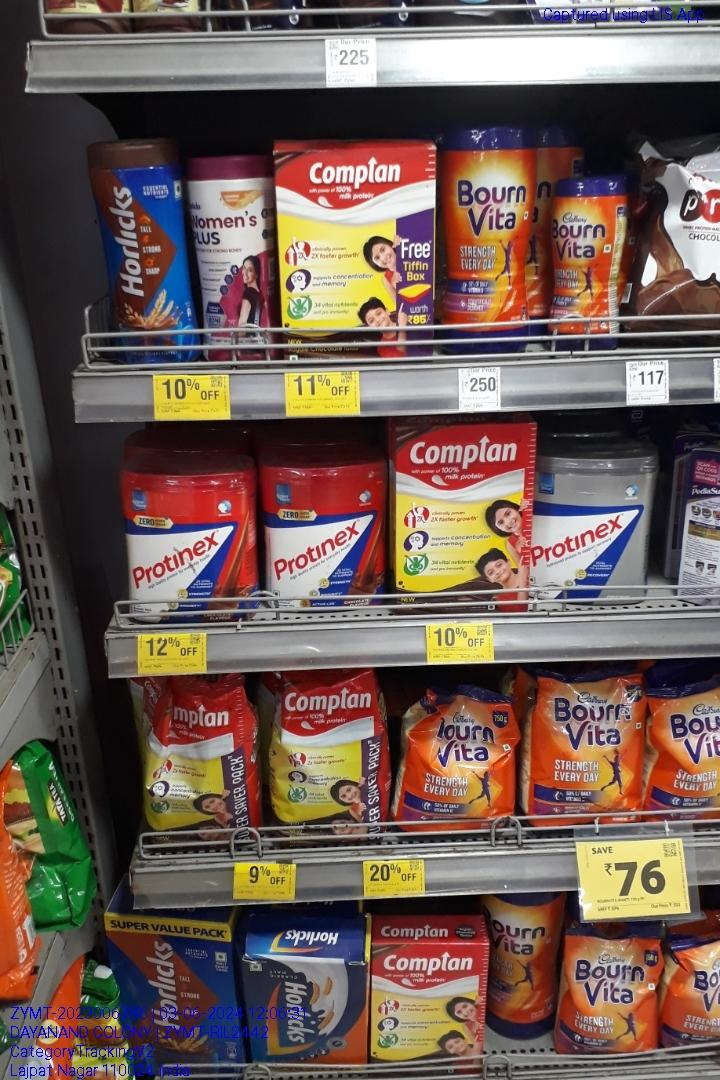BOURN_VITA_1_KG_JAR: (442, 123, 534, 362)
BOURN_VITA_500_G_JAR: (552, 180, 613, 346)
COMPLAN_RC_POUCH_700_GMS_12: (149, 675, 260, 843), (270, 678, 380, 845)
PROTINEX_CHOCOLATE_400_G_JAR: (124, 452, 250, 618), (261, 447, 388, 611)
PROTINEX_ORIGINAL_400_G_JAR: (531, 440, 648, 603)
